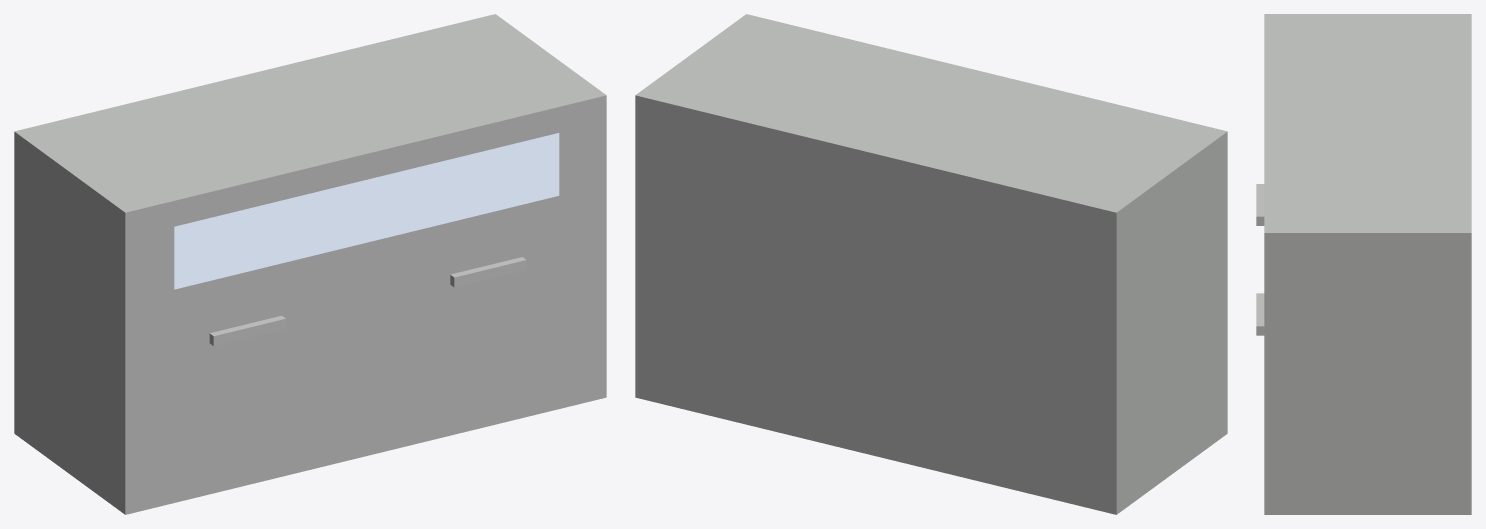
File: town_ice_chest 2.gltf
3 renders of one model, left to right at view 1: azimuth 30°, elevation 25°; view 2: azimuth 150°, elevation 25°; view 3: azimuth 270°, elevation 25°, orthographic. The views are drawn at different scales.
Parts seen in each view (by area): view 1: TownIceChest_Chest, TownIceChest_Chest_Glow, TownIceChest_Handles; view 2: TownIceChest_Chest; view 3: TownIceChest_Chest, TownIceChest_Handles.
Part boxes in pixels (left/top/right/bottom): TownIceChest_Chest: left=14, top=14, right=606, bottom=514; TownIceChest_Chest_Glow: left=174, top=133, right=559, bottom=289; TownIceChest_Handles: left=209, top=257, right=526, bottom=346; TownIceChest_Chest: left=635, top=14, right=1227, bottom=514; TownIceChest_Chest: left=1264, top=14, right=1471, bottom=514; TownIceChest_Handles: left=1256, top=184, right=1264, bottom=335.
Size of what is drawn, in the model's own units: 2 by 1.2 by 0.83.
2 materials, 2 textured.
